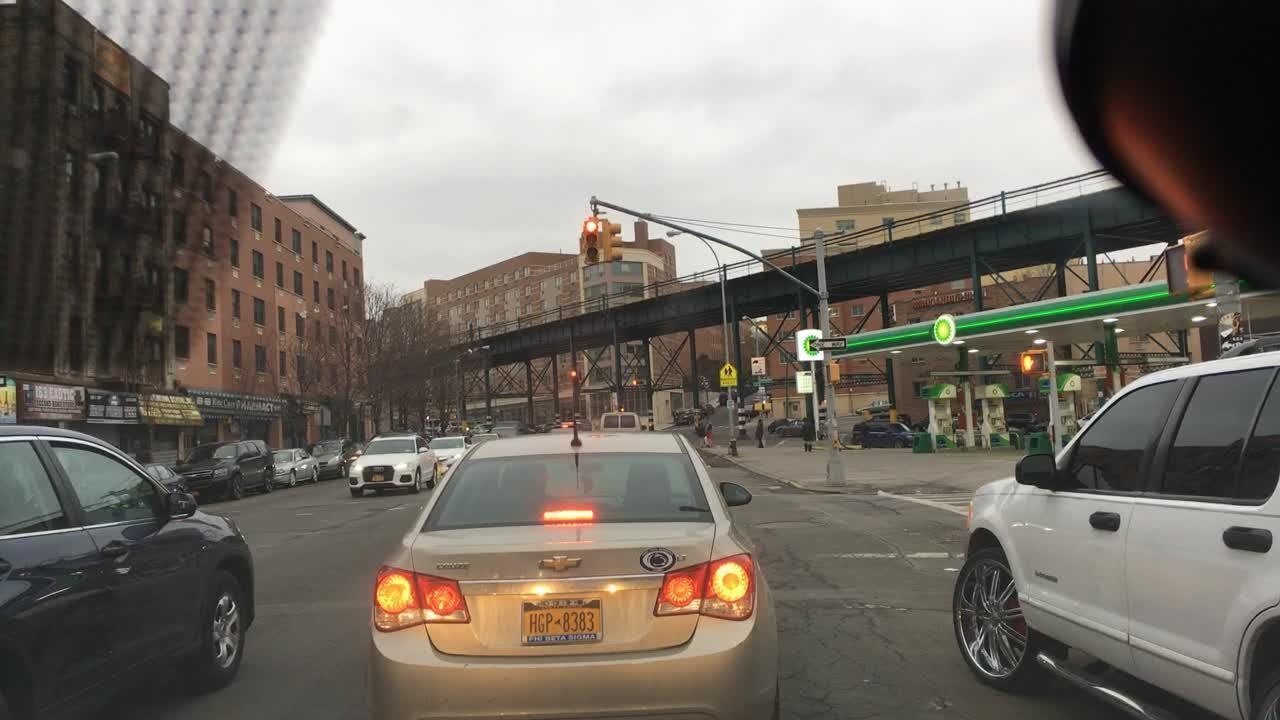Audi: (369, 465, 387, 475)
chevrolet: (527, 548, 591, 577)
